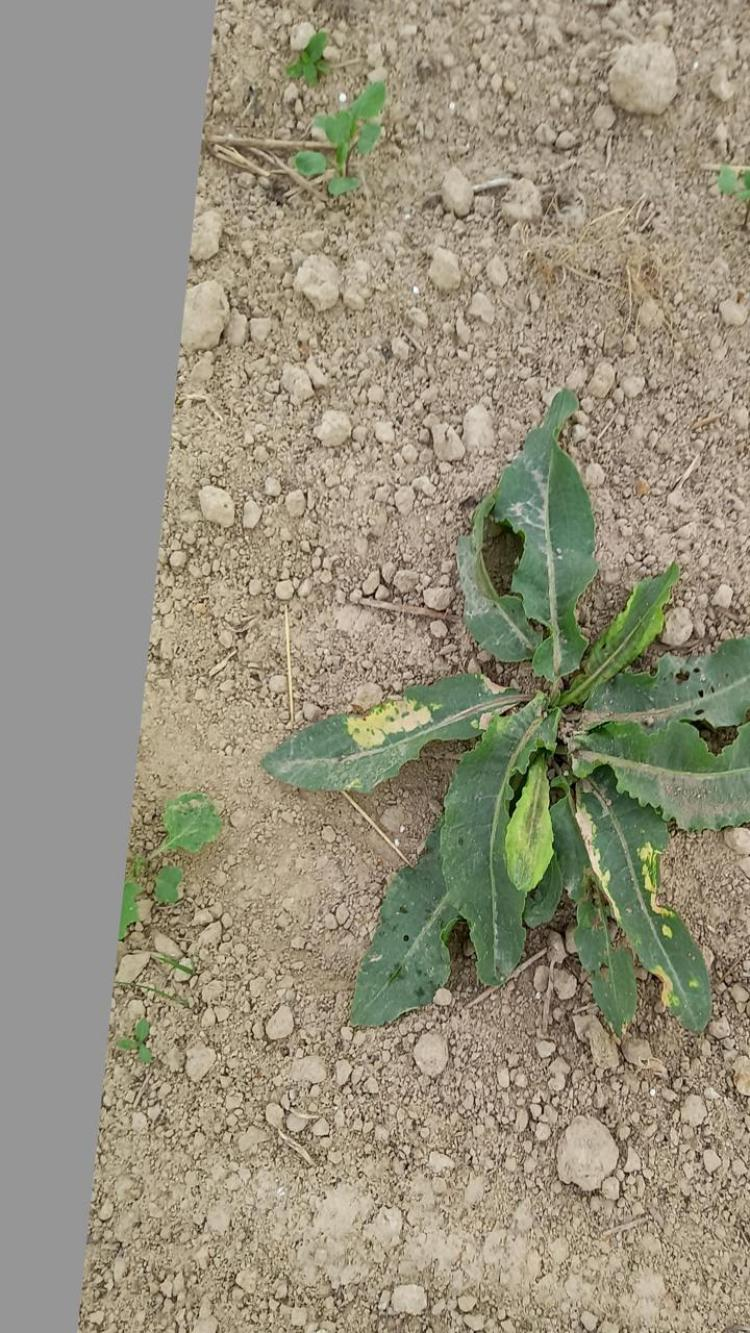zhavel: (252, 375, 750, 1035)
